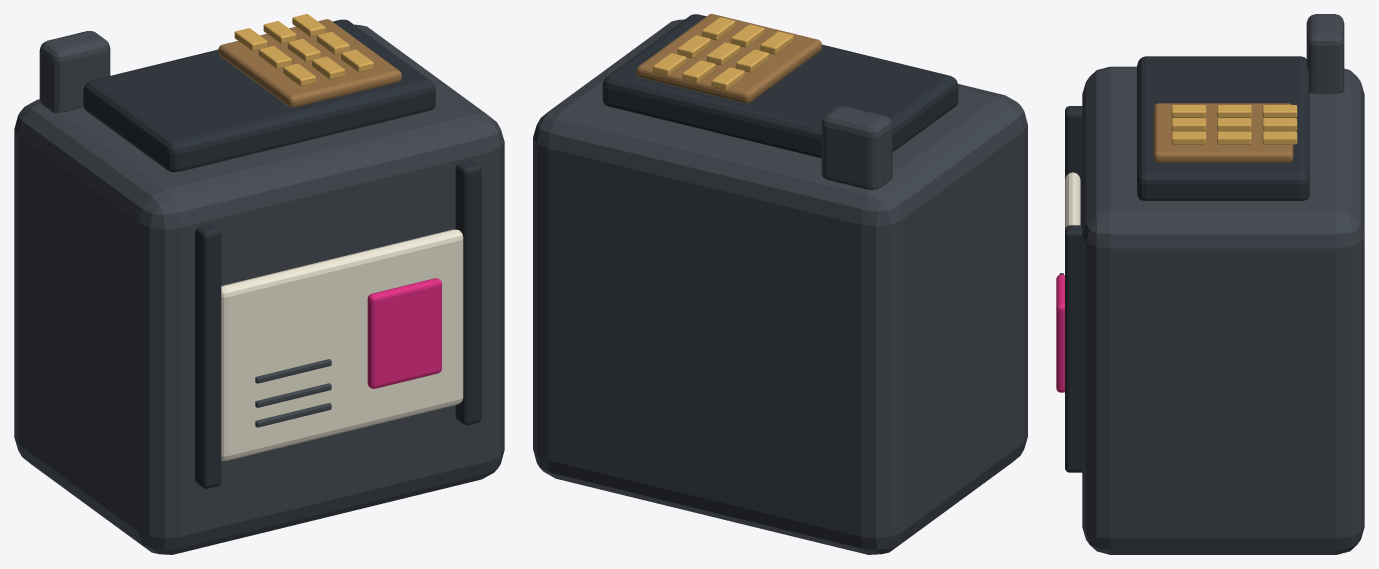
File: PrinterInk.fbx
3 views of the same model, side by side, from view 1: azimuth 30°, elevation 25°; view 2: azimuth 150°, elevation 25°; view 3: azimuth 270°, elevation 25° (orthographic). The views are drawn at different scales.
Visible parts, largest first — view 1: PrinterInk_Mesh; view 2: PrinterInk_Mesh; view 3: PrinterInk_Mesh.
Boxes of the visible parts, bbox=[...] form: PrinterInk_Mesh: bbox=[14, 14, 504, 554]; PrinterInk_Mesh: bbox=[533, 14, 1027, 554]; PrinterInk_Mesh: bbox=[1056, 14, 1364, 554].
Size of the model in its own units: 0.25 by 0.2795 by 0.1965.
